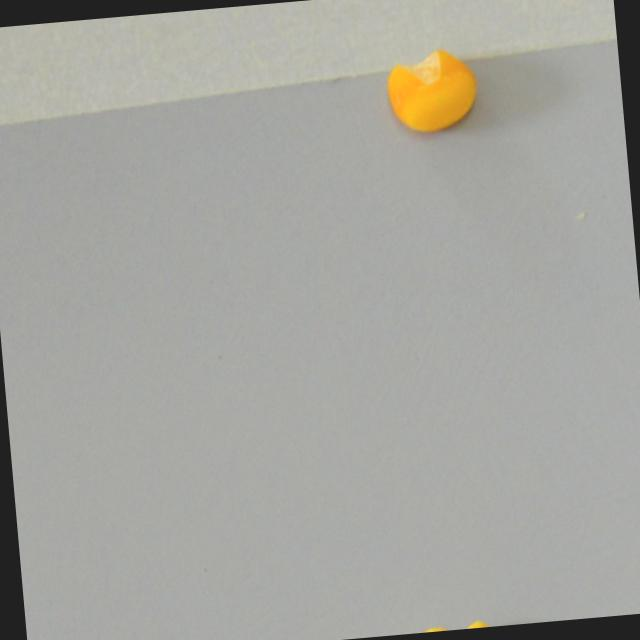no_canjicado: (382, 44, 482, 137), (407, 616, 501, 634)
